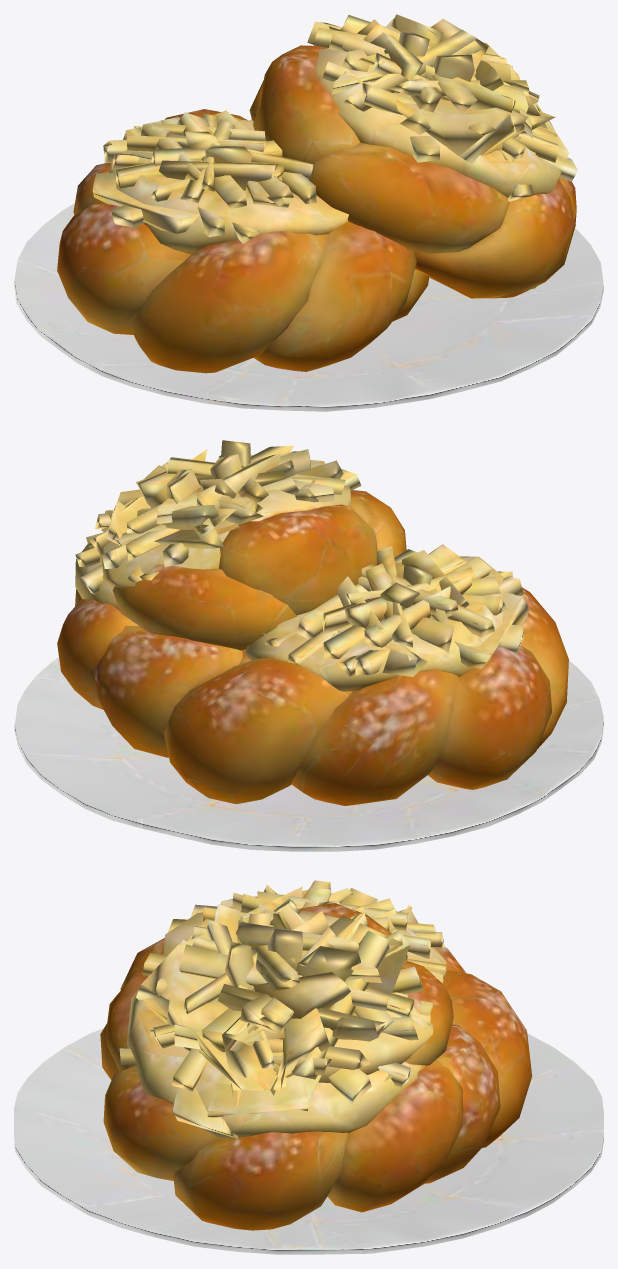
File: ensaymada.glb
3 views of the same model, one above another, from view 1: azimuth 30°, elevation 25°; view 2: azimuth 150°, elevation 25°; view 3: azimuth 270°, elevation 25° (orthographic).
Visible parts, largest first — view 1: geometry_0; view 2: geometry_0; view 3: geometry_0.
Boxes of the visible parts, x1,y1,x2,y2 form: geometry_0: (14,14,603,411); geometry_0: (14,440,603,851); geometry_0: (14,880,603,1254).
Bounding box in the file's own units: 1 × 0.4966 × 1.
1 material, 1 textured.
